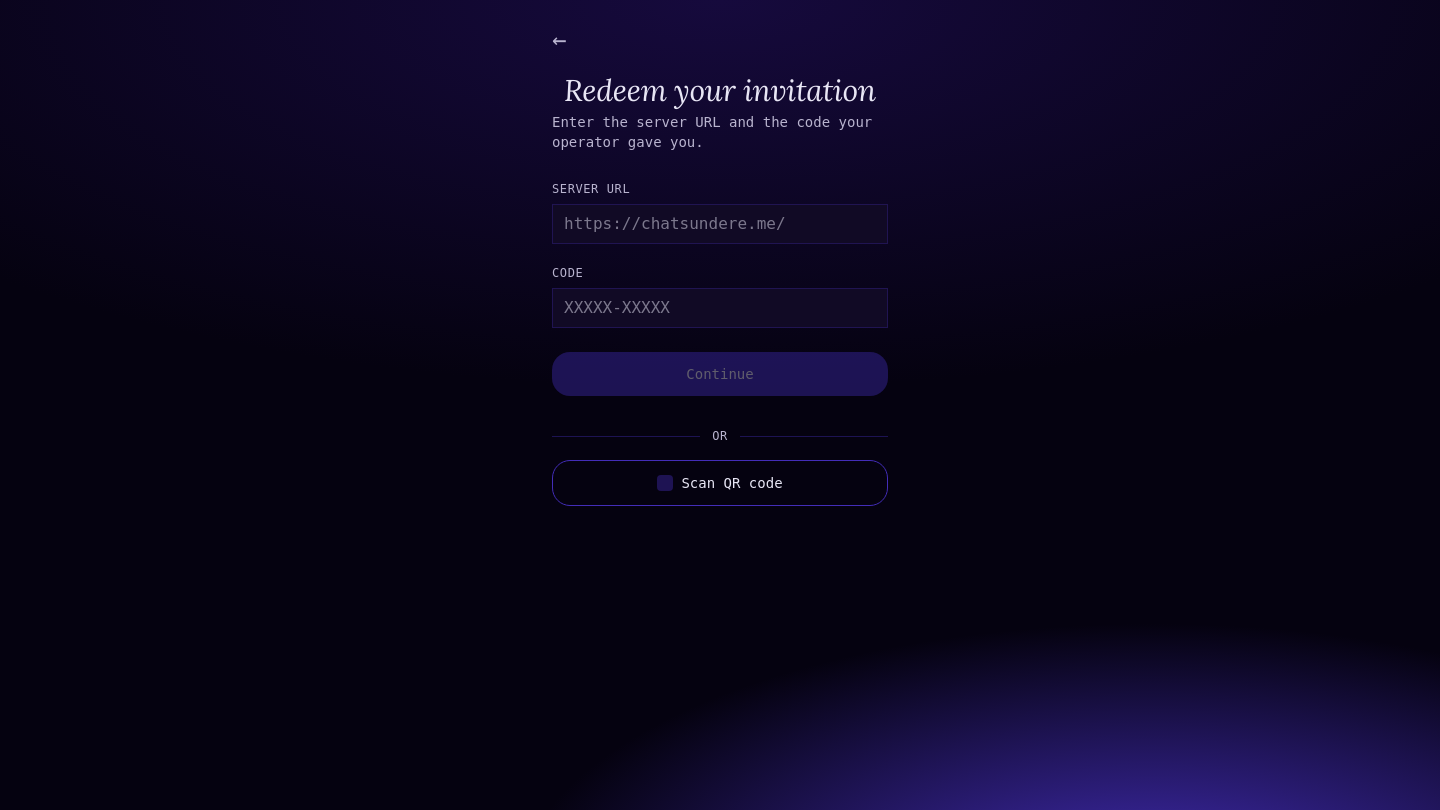
invitation form probe › blocks on unreachable with constructive copy, input preserved
The width and height of the screenshot is (1440, 810).
Type "https://srv.example" into the field labelled "Server URL" at (720,224), box [552,204,888,244]
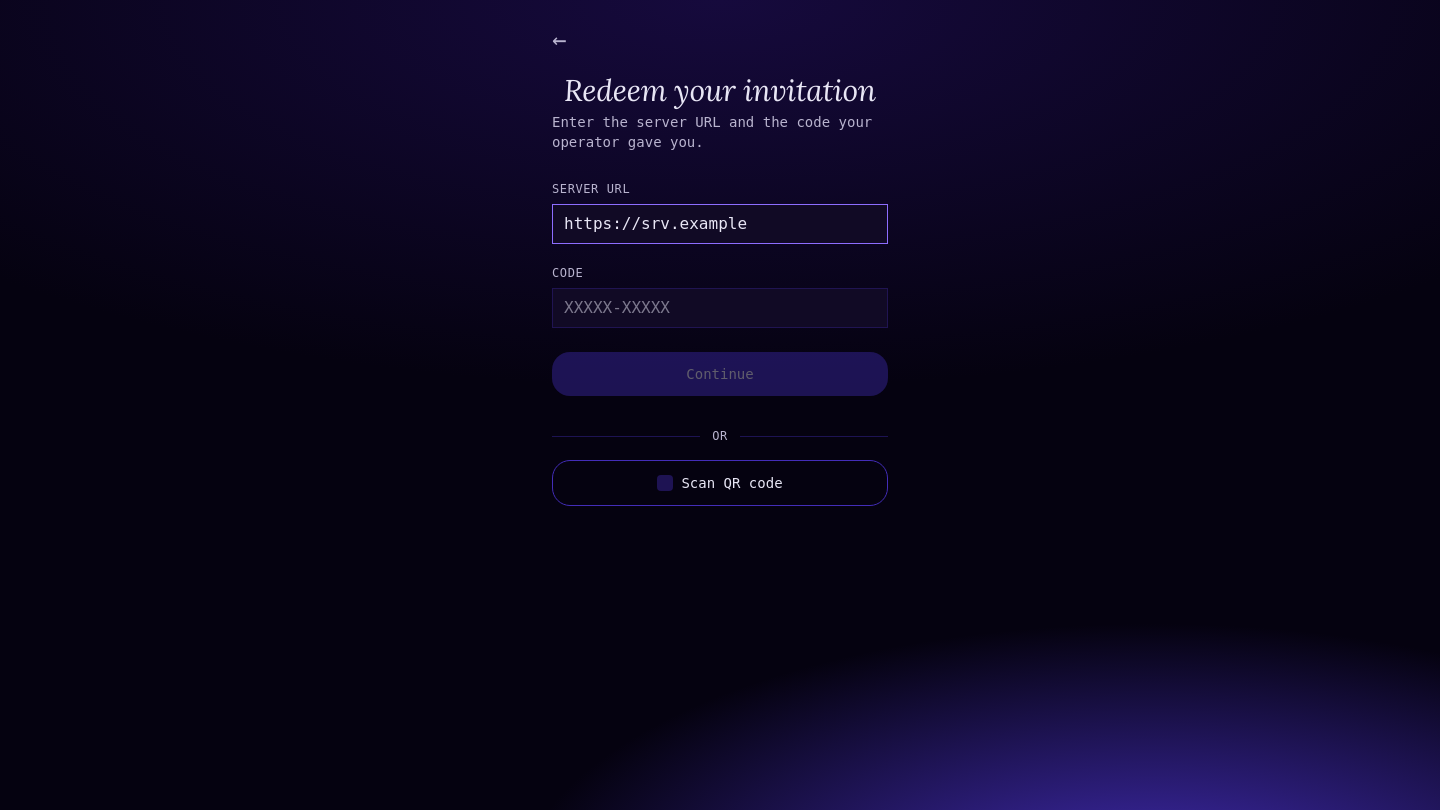
Type "ABCDE-FGHJK" into the field labelled "Code" at (720,308), box [552,288,888,328]
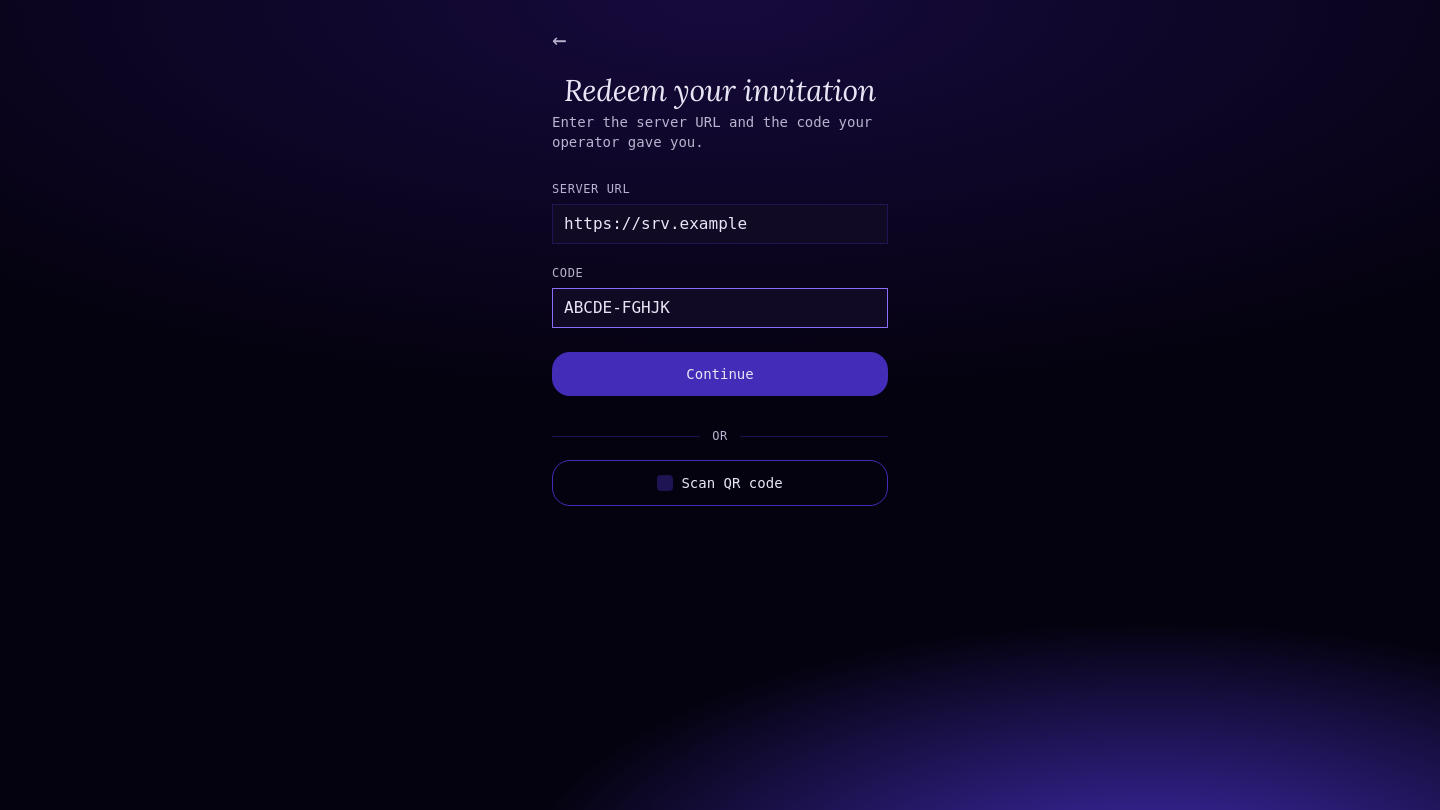
Click the button "Continue" at (720,374), box [552,352,888,396]
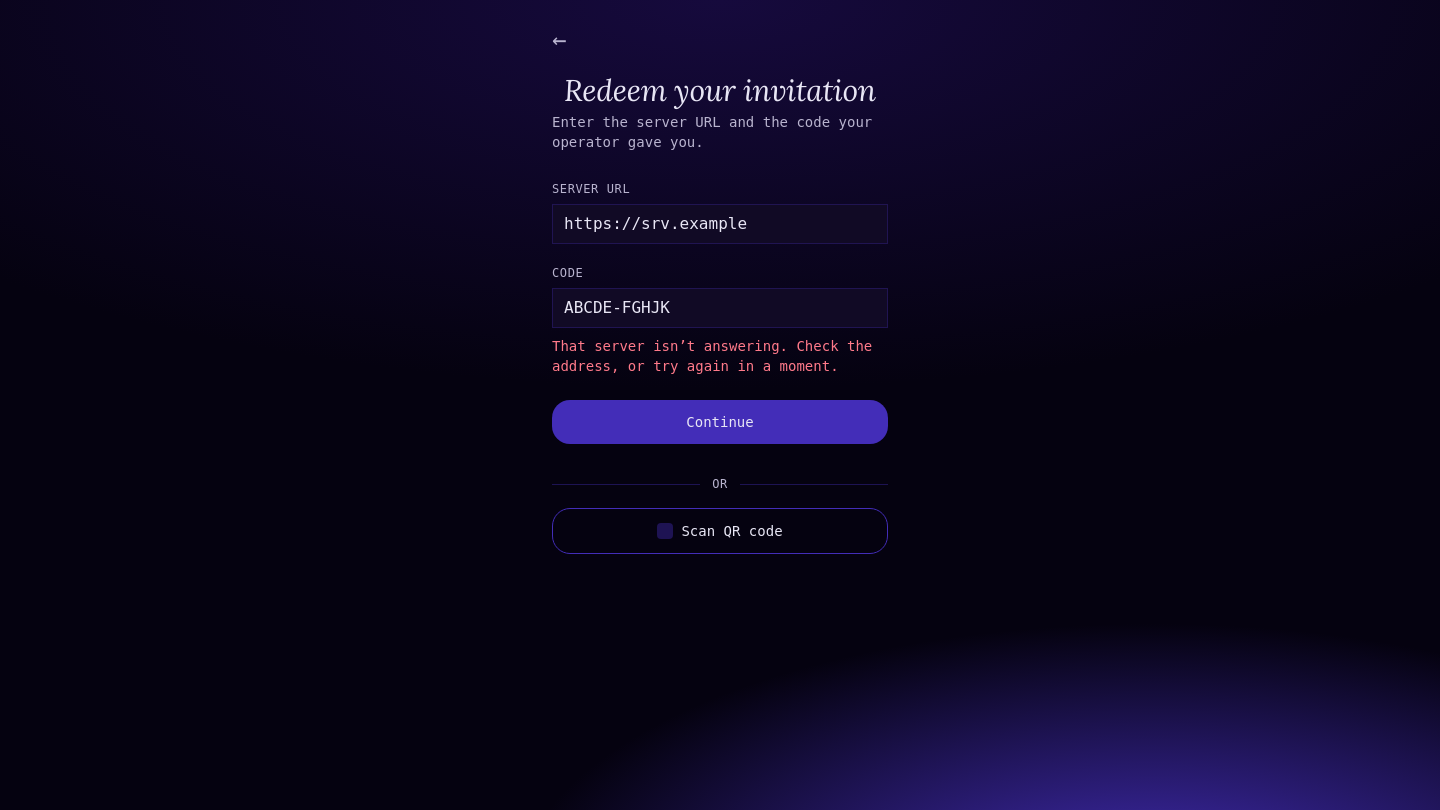
Expected: the text "That server isn’t answering. Check the address, or try again in a moment." is shown, [552,336,888,376]
